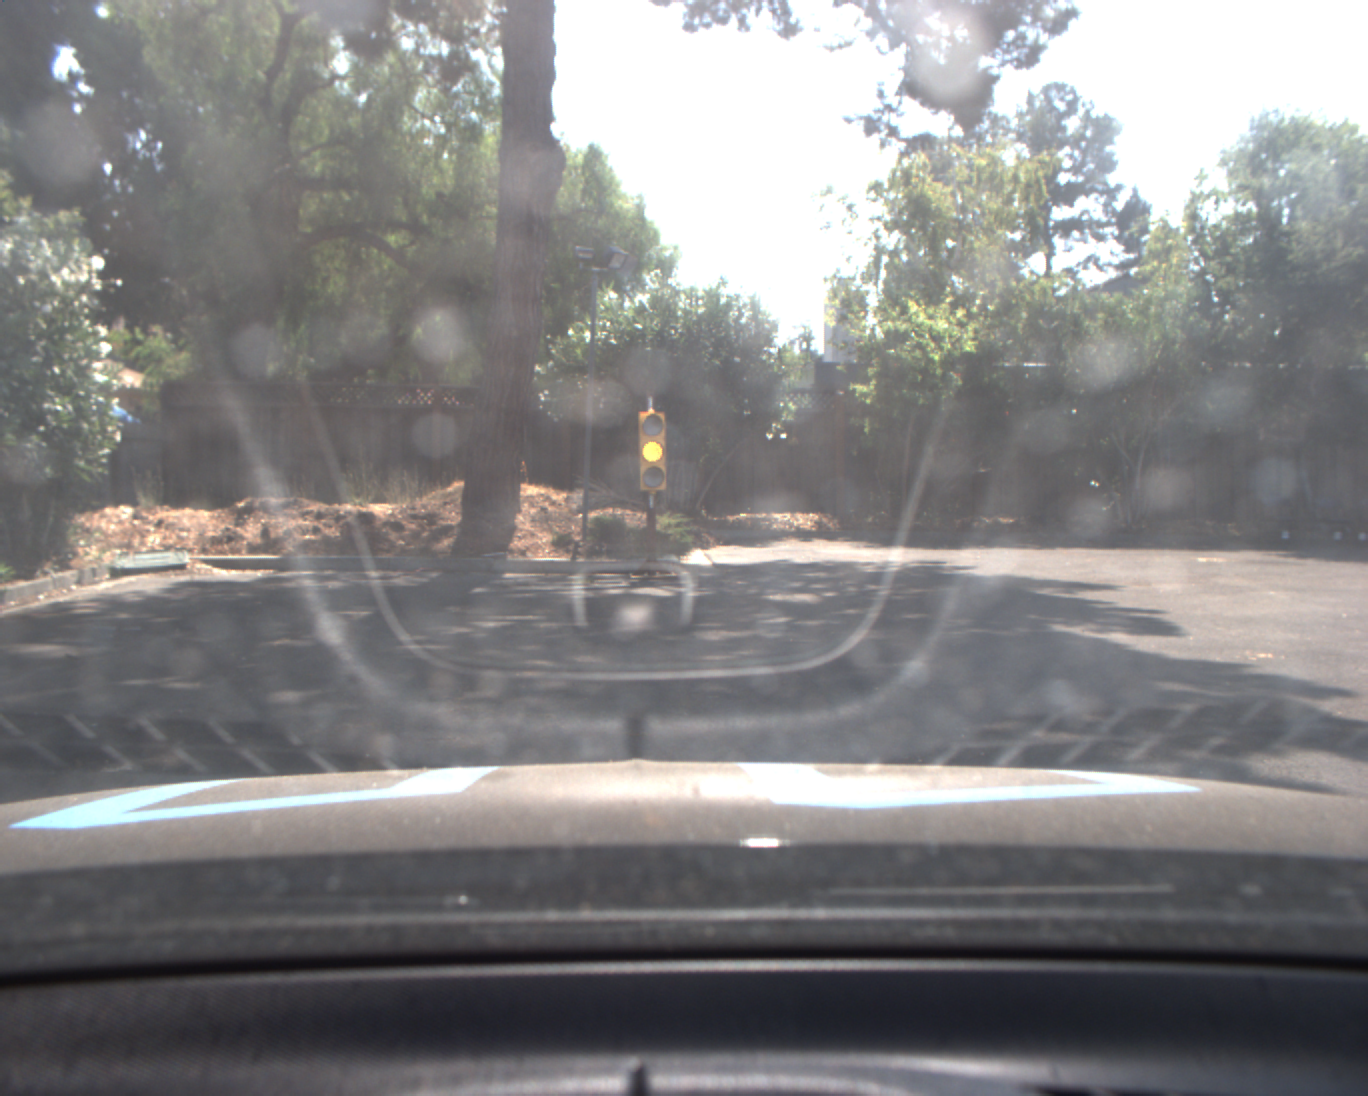yellow: (634, 408, 670, 495)
